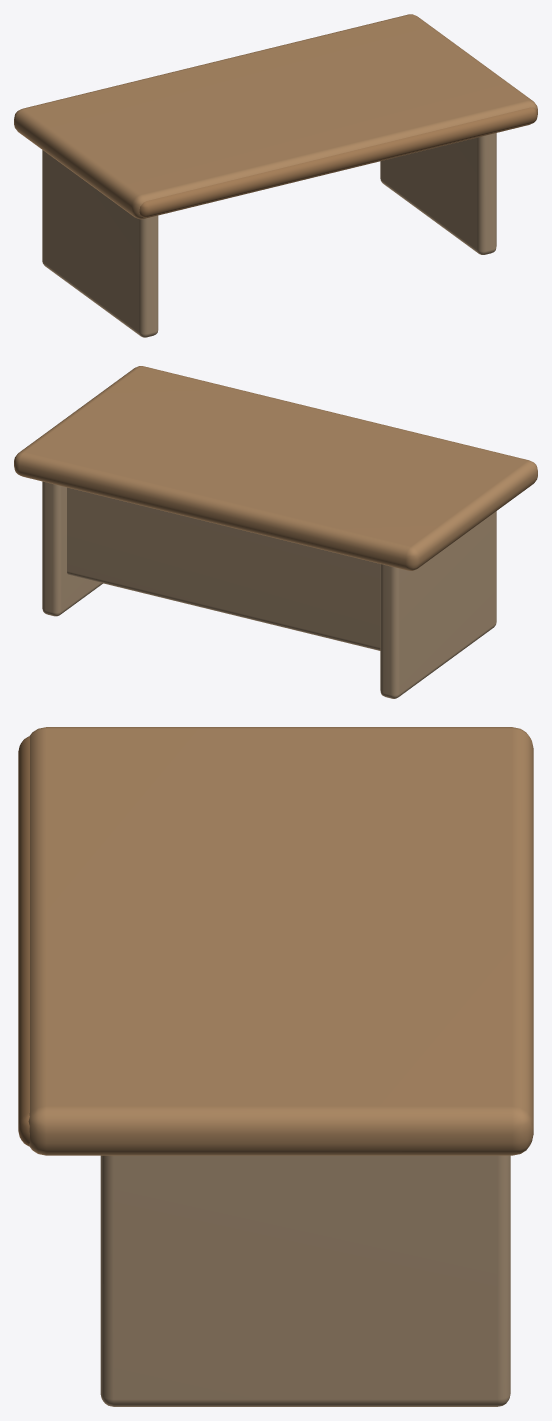
The model's file is qi01-desk.glb.
3 views of the same model, one above another, from view 1: azimuth 30°, elevation 25°; view 2: azimuth 150°, elevation 25°; view 3: azimuth 270°, elevation 25° (orthographic). The views are drawn at different scales.
Visible parts, largest first — view 1: Central desk copper shell, Desk support, Desk support.001, Central desk body; view 2: Central desk copper shell, Desk rear panel, Desk support, Desk support.001; view 3: Central desk copper shell, Desk support.001, Central desk body.
Boxes of the visible parts, bbox=[...] form: Central desk copper shell: bbox=[14, 14, 537, 219]; Desk support: bbox=[42, 150, 158, 337]; Desk support.001: bbox=[380, 133, 496, 254]; Central desk body: bbox=[139, 107, 537, 217]; Central desk copper shell: bbox=[14, 366, 537, 570]; Desk rear panel: bbox=[67, 487, 380, 650]; Desk support: bbox=[380, 511, 496, 698]; Desk support.001: bbox=[42, 481, 102, 616]; Central desk copper shell: bbox=[28, 727, 533, 1155]; Desk support.001: bbox=[100, 1155, 510, 1406]; Central desk body: bbox=[18, 736, 29, 1146].
Size of the model in its own units: 2.85 by 1.08 by 1.57.
